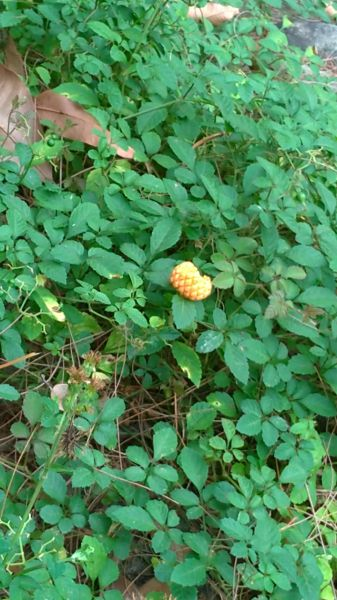eggs: (162, 255, 215, 304)
